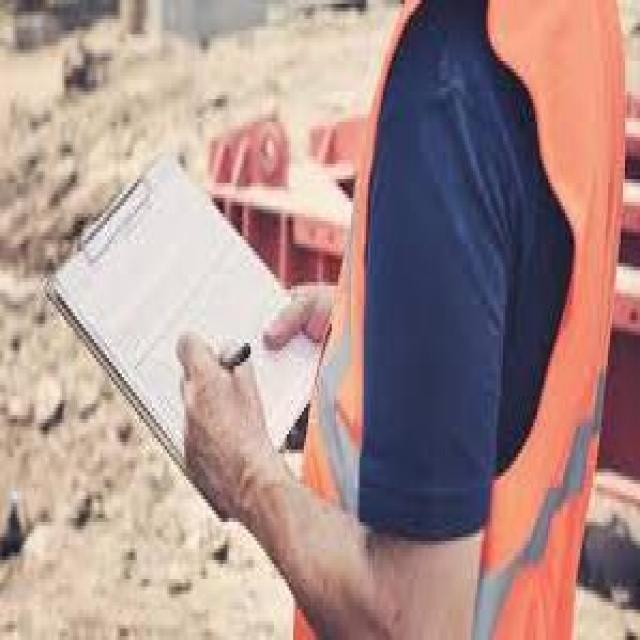Reflective-Jacket: (289, 0, 638, 640)
